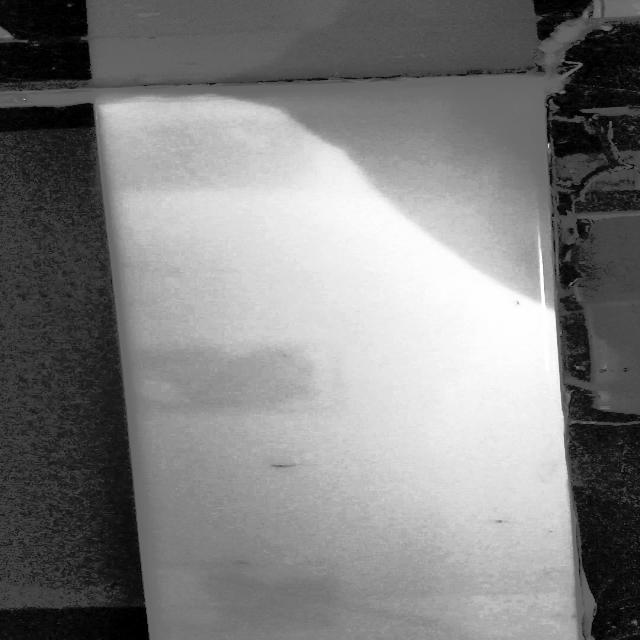shrimp: (264, 458, 304, 470), (479, 518, 511, 530), (506, 296, 528, 310), (233, 559, 261, 570)
